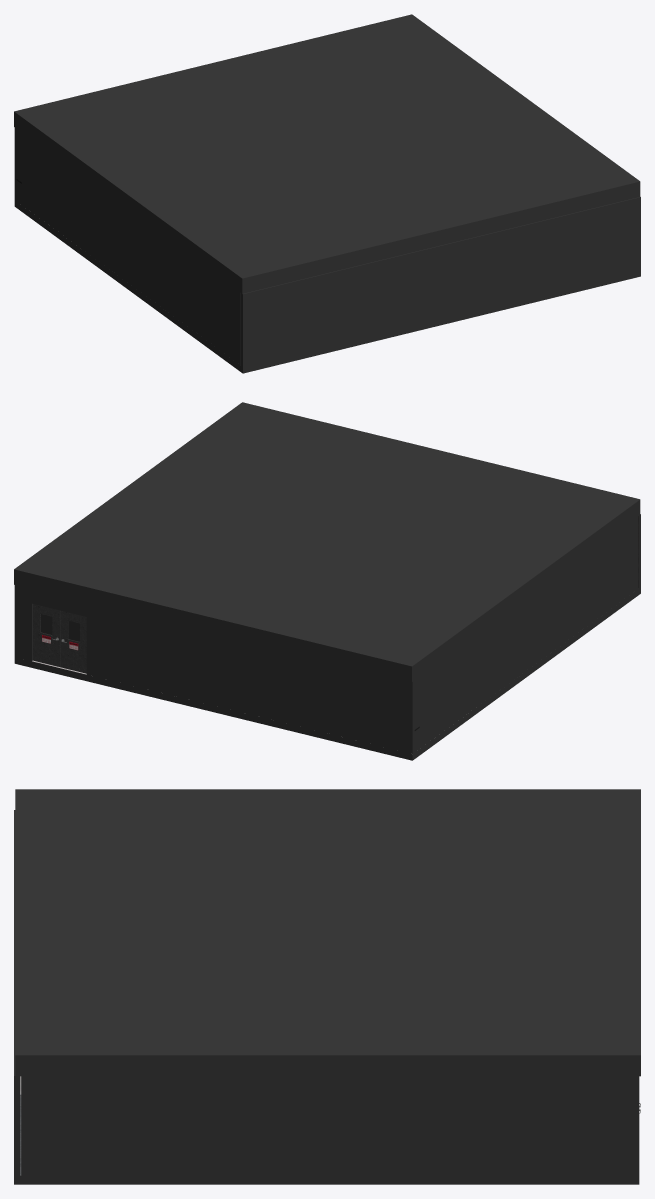
The model's file is shooting_range.fbx.
The picture shows the model from 3 angles, top to bottom: view 1: azimuth 30°, elevation 25°; view 2: azimuth 150°, elevation 25°; view 3: azimuth 270°, elevation 25°; orthographic projection. The views are drawn at different scales.
Parts seen in each view (by area): view 1: SR Ceiling.Shape, SR Wall Front.Shape, SR Wall Right.Shape, SR Floor.Shape; view 2: SR Ceiling.Shape, SR Wall Back.Shape, SR Wall Right.Shape, SR Floor.Shape, SR Left Door.Shape, SR Right Door.Shape; view 3: SR Ceiling.Shape, SR Wall Left.Shape, SR Floor.Shape, SR Wall Front.Shape, SR Wall Back.Shape.
Boxes of the visible parts, box(x1,y1,x2,y2) form: SR Ceiling.Shape: box(14, 14, 640, 293); SR Wall Front.Shape: box(240, 197, 640, 366); SR Wall Right.Shape: box(16, 129, 240, 364); SR Floor.Shape: box(14, 200, 640, 373); SR Ceiling.Shape: box(14, 402, 640, 681); SR Wall Back.Shape: box(14, 585, 419, 753); SR Wall Right.Shape: box(414, 516, 638, 752); SR Floor.Shape: box(14, 587, 640, 760); SR Left Door.Shape: box(33, 604, 60, 666); SR Right Door.Shape: box(60, 610, 86, 673); SR Ceiling.Shape: box(15, 789, 640, 1094); SR Wall Left.Shape: box(21, 1076, 633, 1175); SR Floor.Shape: box(14, 1094, 639, 1184); SR Wall Front.Shape: box(14, 810, 19, 1175); SR Wall Back.Shape: box(633, 1076, 639, 1175).
Bounding box in the file's own units: 1706 × 388 × 1699.
Materials: 33 (18 with a texture image).
